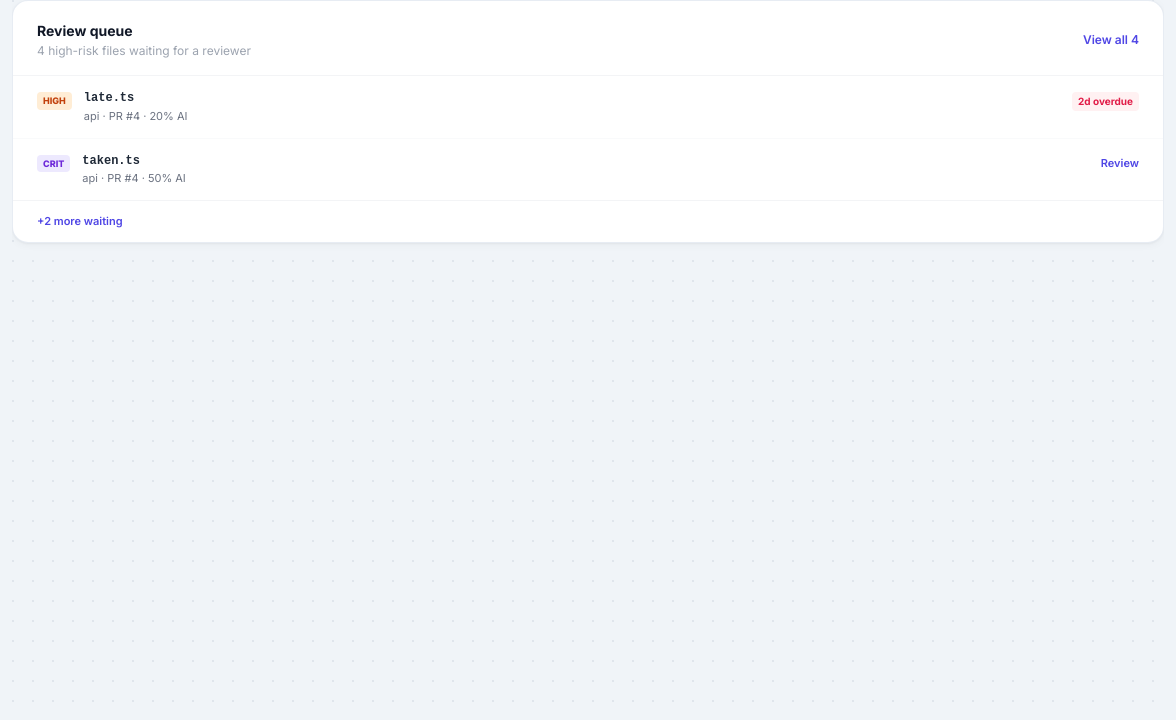
it: review queue › rows open the file's sign-off on its PR page
The width and height of the screenshot is (1176, 720).
Expected: the text "2d overdue" is shown, [1072, 92, 1139, 111]
Expected: the link "CRIT taken.ts api · PR #4 · 50% AI Review" is shown, [37, 154, 1139, 185]
Click the button "View all 4". click: (1111, 40)
box: [1083, 32, 1139, 48]
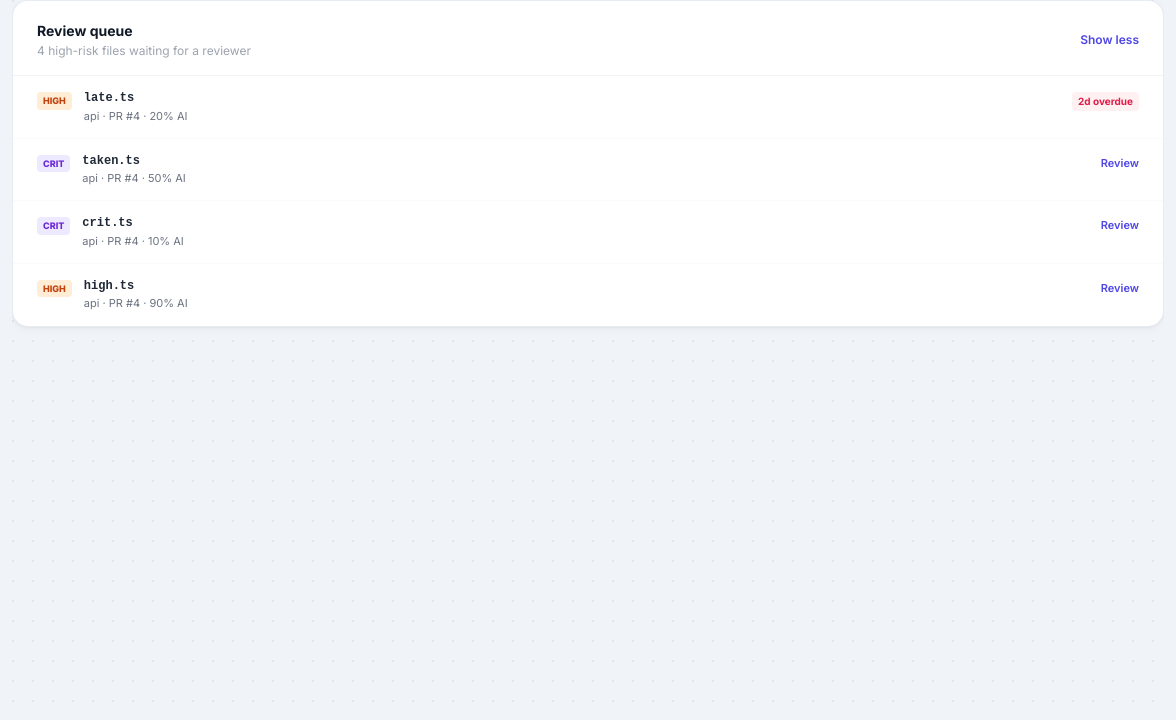
Now the link "HIGH high.ts api · PR #4 · 90% AI Review" is shown, box [37, 279, 1139, 310]
Now the button "Show less" is expanded
Click the button "Show less". click: (1110, 40)
box: [1080, 32, 1139, 48]
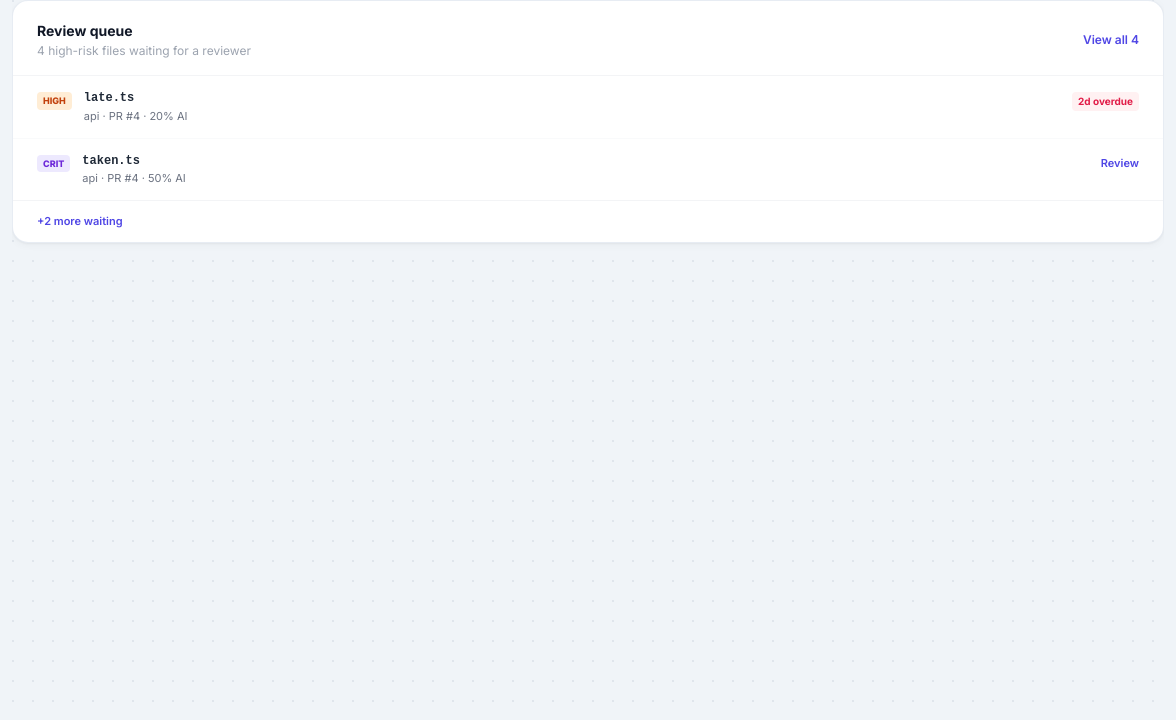
Now the link "high.ts" is gone
Click the button "+2 more waiting". click: (87, 221)
box: [13, 200, 1163, 242]
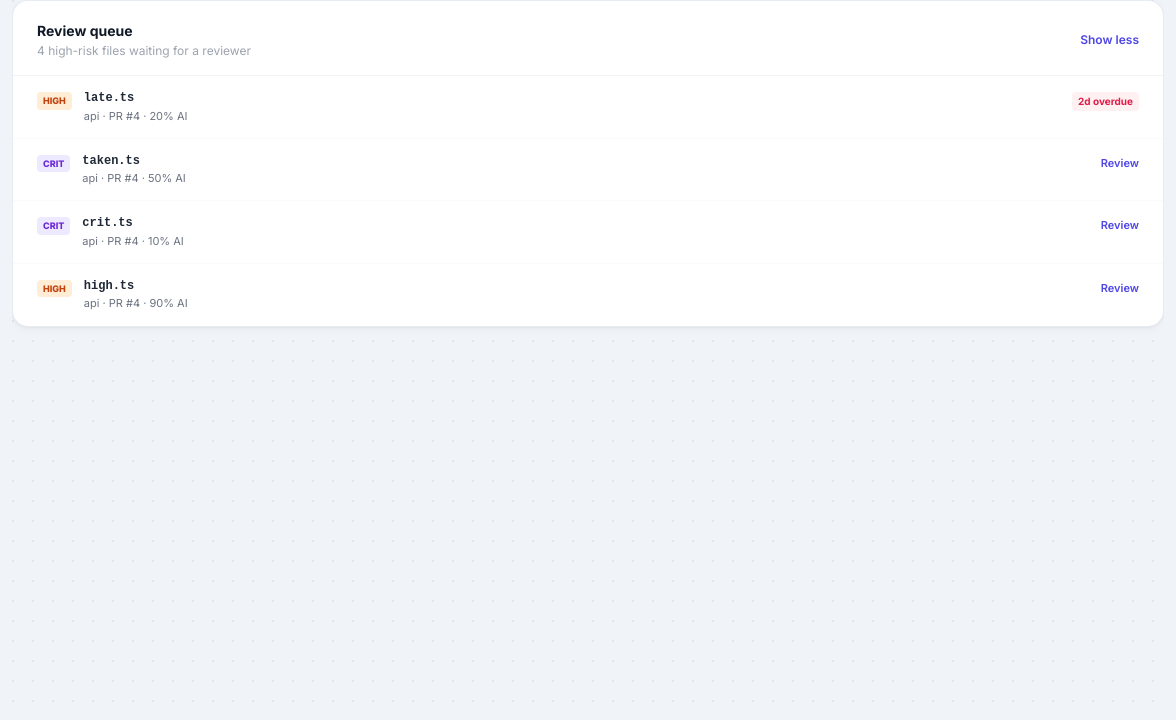
Now the link "HIGH high.ts api · PR #4 · 90% AI Review" is shown, box [37, 279, 1139, 310]
